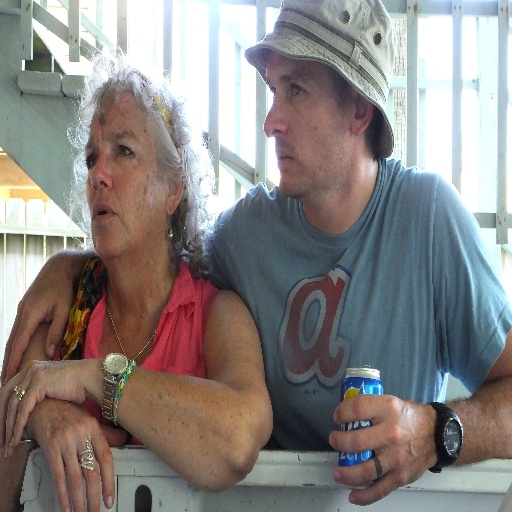hand: (332, 384, 452, 486), (0, 249, 77, 387), (25, 400, 114, 511), (0, 360, 89, 461)
